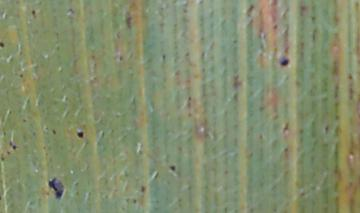tarspot: (45, 174, 67, 203), (124, 9, 132, 32), (278, 56, 291, 69), (244, 4, 256, 18), (322, 124, 331, 137), (167, 163, 178, 173), (75, 130, 85, 140), (160, 52, 168, 63), (346, 71, 354, 81), (118, 54, 126, 64), (29, 8, 37, 17), (131, 197, 138, 206), (139, 184, 146, 192), (185, 94, 193, 101), (11, 144, 18, 151), (51, 128, 57, 136), (1, 40, 6, 49), (18, 72, 25, 78), (272, 22, 277, 30)
